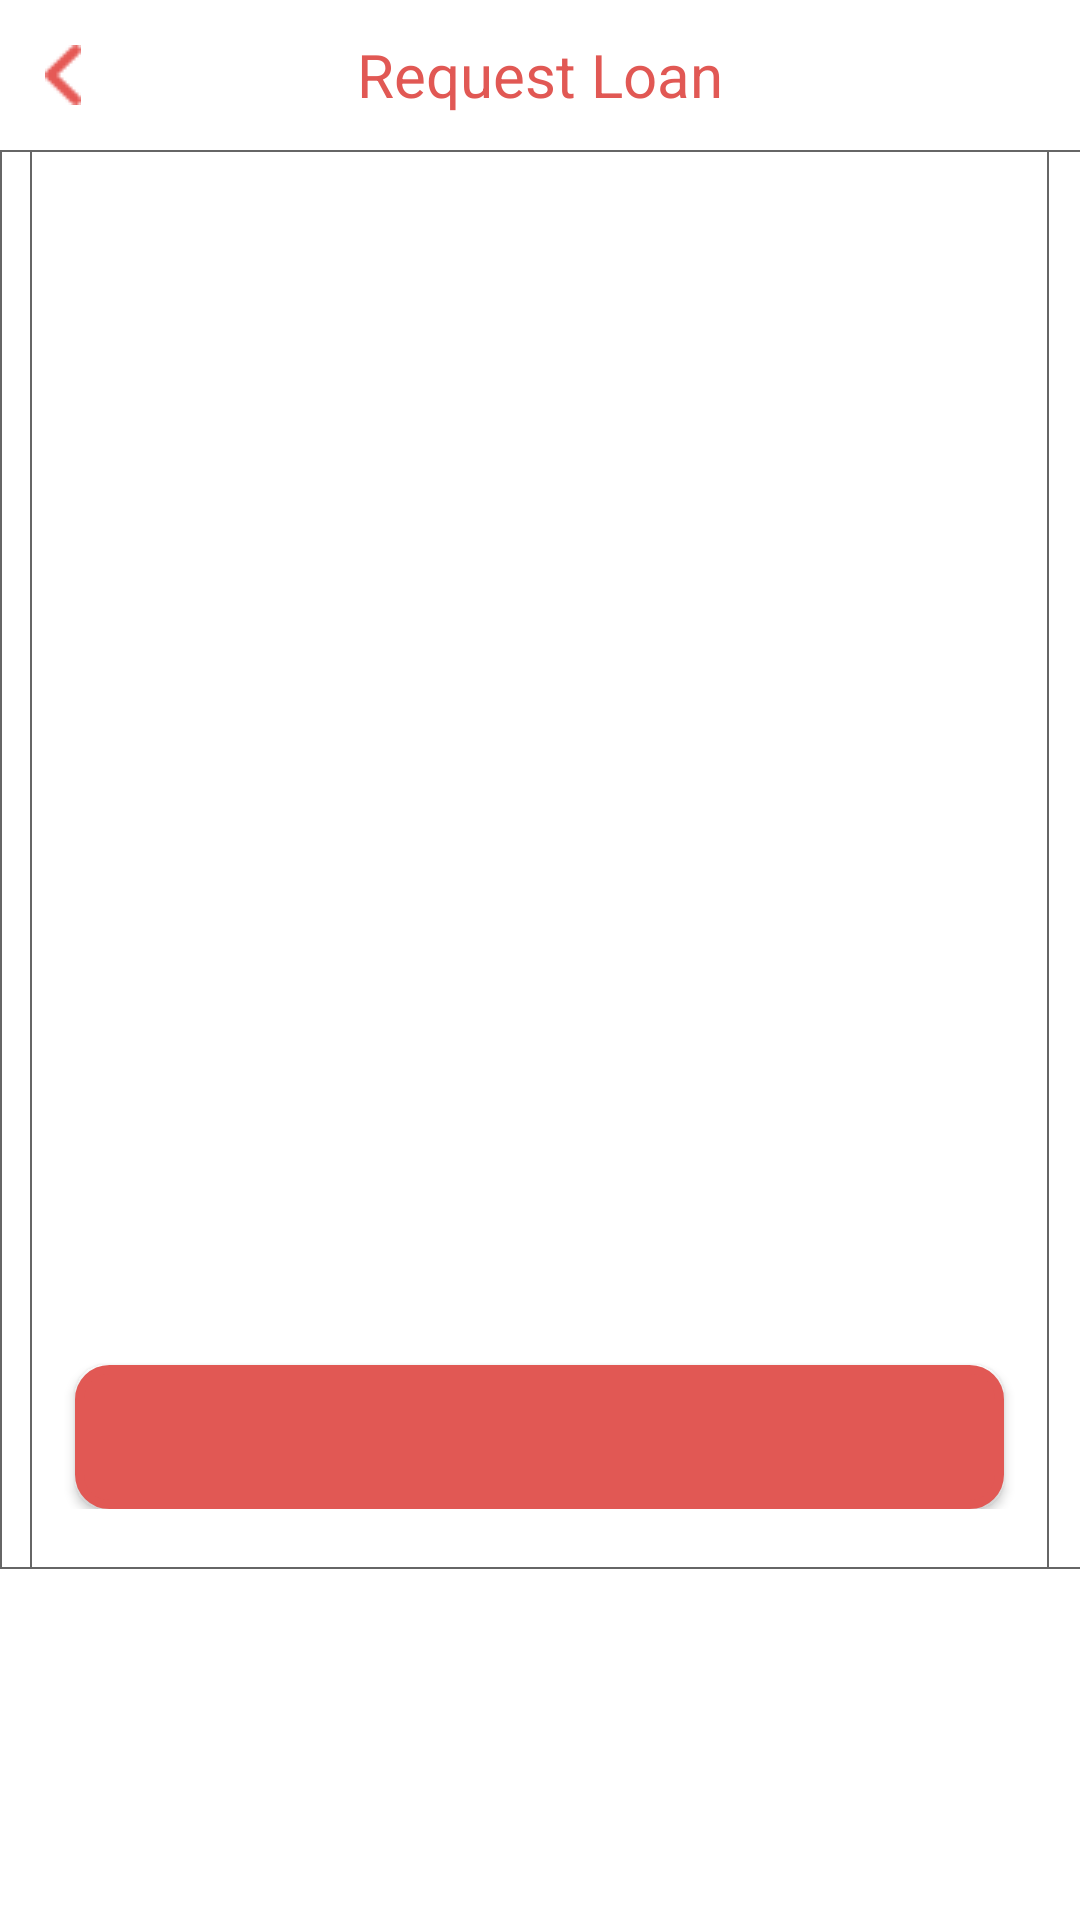

Screen size 1080x1920. Icon name, then its box in pixels as box=[x1, y1, x2, y2]:
back arrow: box=[45, 45, 81, 105]
